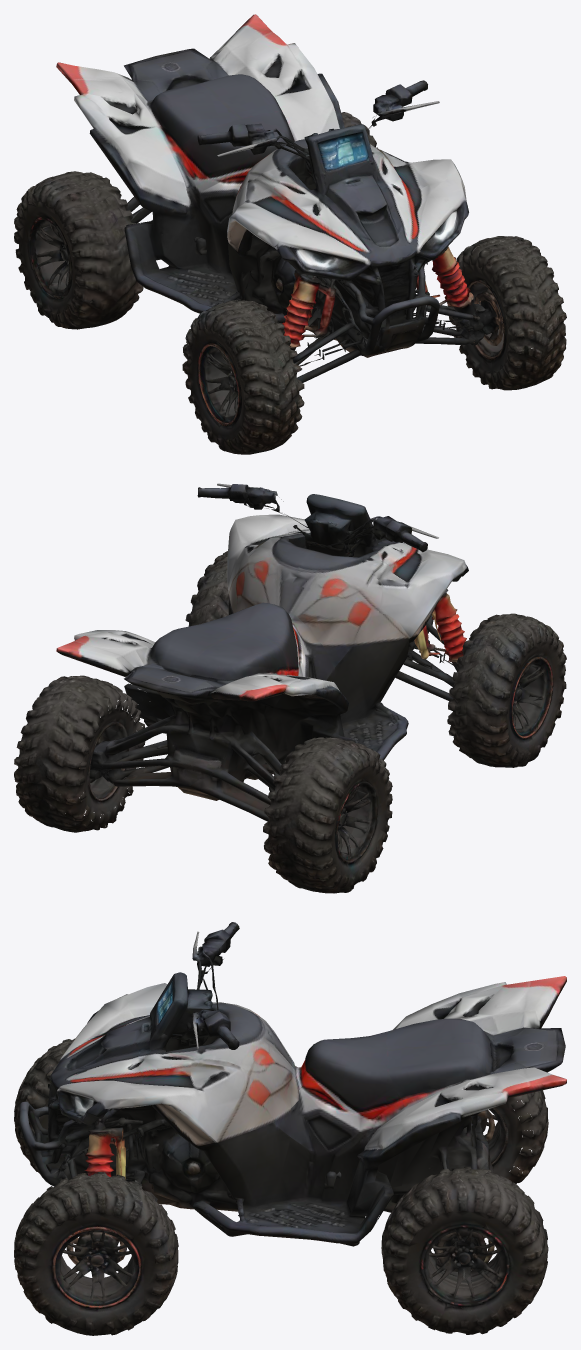
File: quad-bike.glb
3 renders of one model, top to bottom at view 1: azimuth 30°, elevation 25°; view 2: azimuth 150°, elevation 25°; view 3: azimuth 270°, elevation 25°, orthographic. The views are drawn at different scales.
Visible parts, largest first — view 1: quad-chassis-geometry, quad-wheel-rear-right-geometry, quad-wheel-front-right-geometry, quad-wheel-front-left-geometry; view 2: quad-chassis-geometry, quad-wheel-rear-right-geometry, quad-wheel-front-right-geometry, quad-wheel-rear-left-geometry, quad-wheel-front-left-geometry; view 3: quad-chassis-geometry, quad-wheel-rear-left-geometry, quad-wheel-front-left-geometry, quad-wheel-rear-right-geometry, quad-wheel-front-right-geometry.
Boxes of the visible parts, x1,y1,x2,y2 form: quad-chassis-geometry: [56, 14, 475, 382]; quad-wheel-rear-right-geometry: [14, 171, 143, 329]; quad-wheel-front-right-geometry: [182, 300, 304, 454]; quad-wheel-front-left-geometry: [447, 236, 566, 390]; quad-chassis-geometry: [56, 483, 468, 860]; quad-wheel-rear-right-geometry: [263, 736, 392, 893]; quad-wheel-front-right-geometry: [447, 613, 566, 767]; quad-wheel-rear-left-geometry: [14, 675, 152, 832]; quad-wheel-front-left-geometry: [185, 551, 228, 626]; quad-chassis-geometry: [19, 922, 566, 1246]; quad-wheel-rear-left-geometry: [377, 1166, 548, 1334]; quad-wheel-front-left-geometry: [14, 1172, 178, 1335]; quad-wheel-rear-right-geometry: [475, 1090, 548, 1183]; quad-wheel-front-right-geometry: [14, 1038, 74, 1177].
Size of the model in its own units: 0.7178 by 0.5758 by 0.9999.
Materials: 1 (1 with a texture image).
